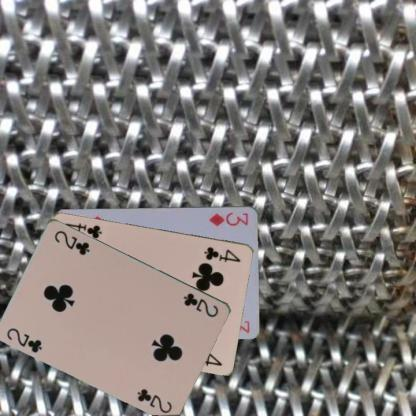2c: (5, 325, 43, 354), (181, 290, 220, 318)
3d: (207, 209, 250, 227)
4c: (202, 244, 242, 263)
